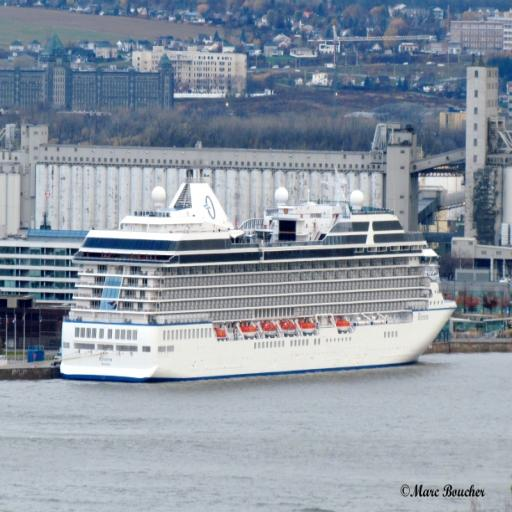cruises: (58, 179, 460, 389)
